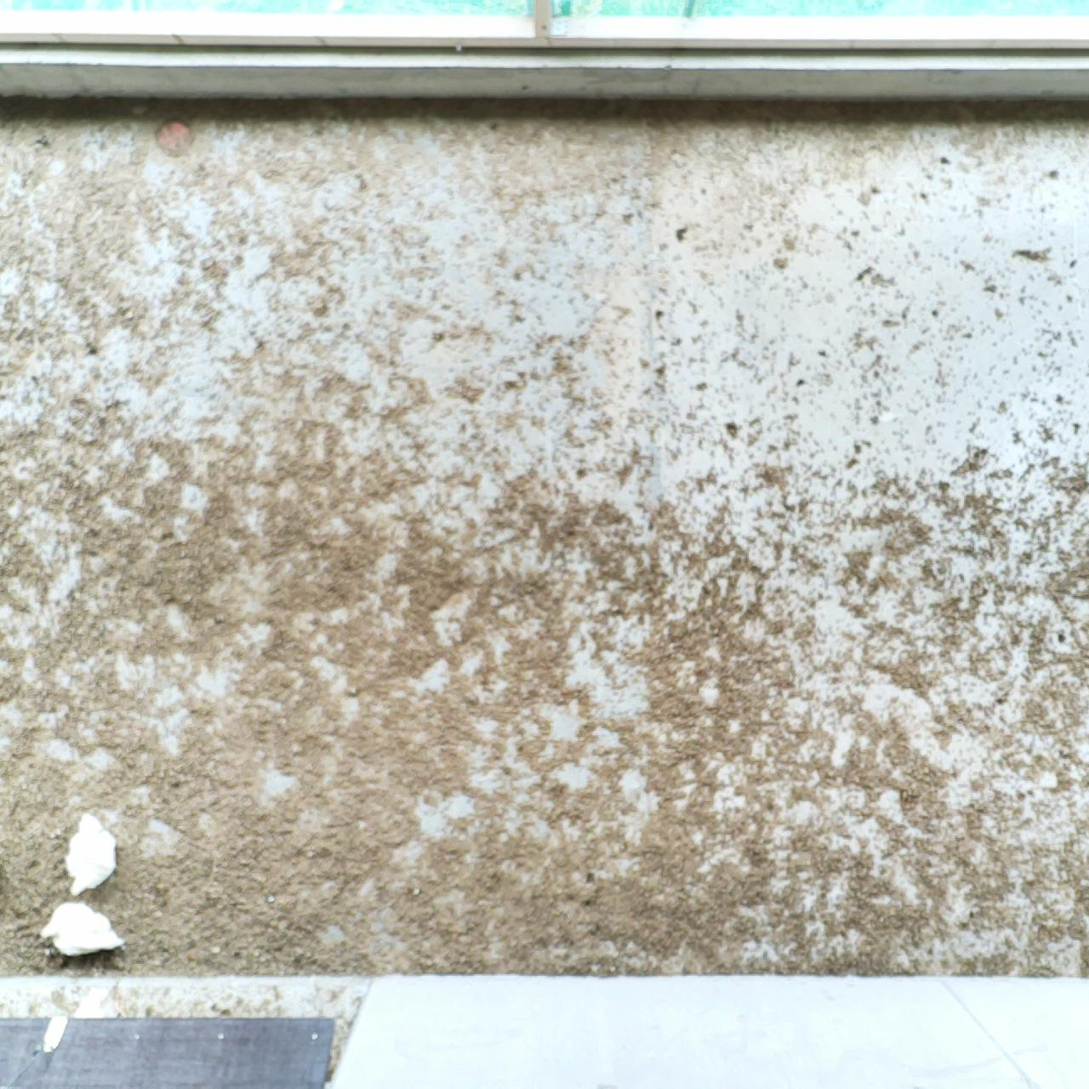chicken: (38, 899, 127, 963), (60, 807, 121, 899)
